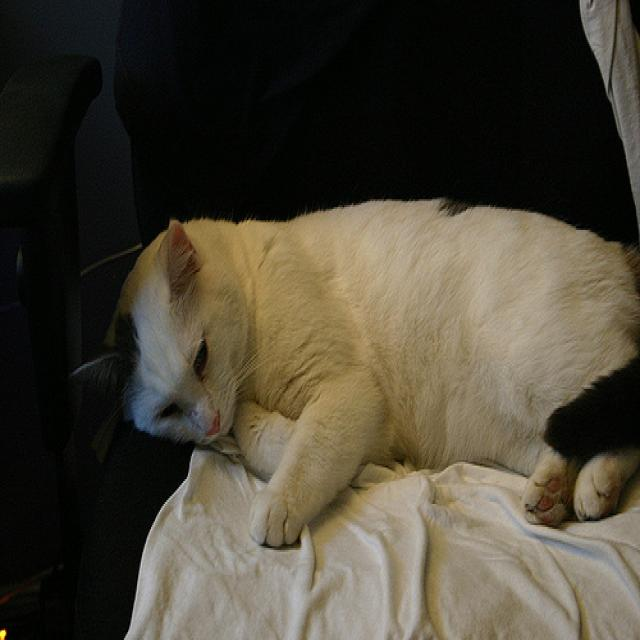cat: (94, 197, 640, 547)
